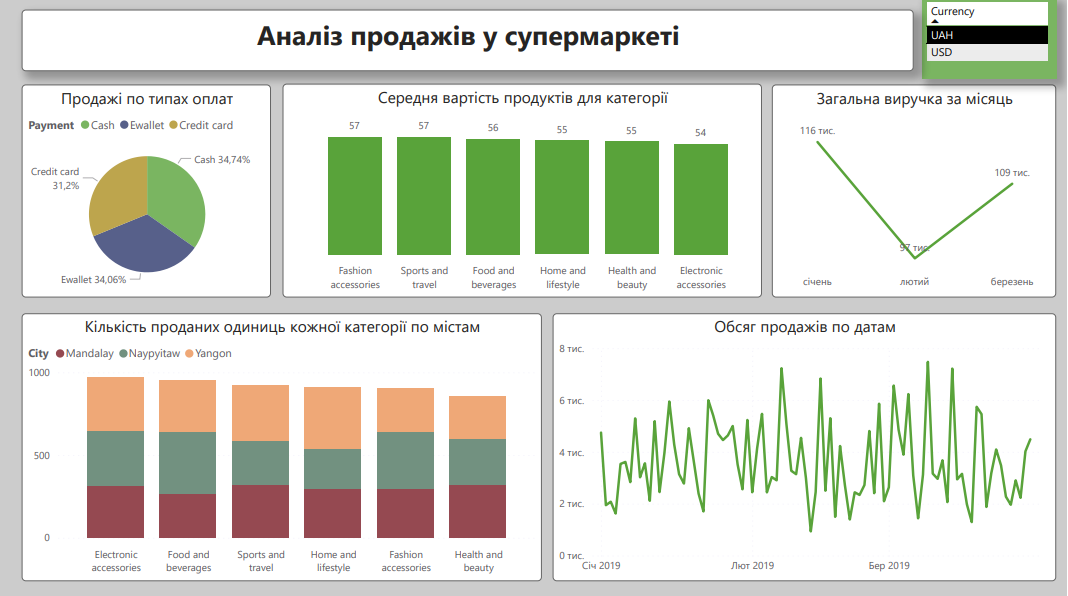

What the dashboard file says about the page in this screenshot:
{"tool":"powerbi","page":{"name":"УКР","canvas":[1280,720],"ordinal":0},"visuals":[{"type":"lineChart","title":"Загальна виручка за місяць ","fields":{"Category":["supermarket_sales csv.Date.Варіація.Ієрархія дат.Місяць"],"Y":["supermarket_sales.Total by currency"]},"box":[926.2,104.3,340.3,255.2],"z":0},{"type":"clusteredColumnChart","title":"Середня вартість продуктів для категорії","fields":{"Category":["supermarket_sales csv.Product line"],"Y":["supermarket_sales.Average Price"]},"box":[338.9,102.9,575,256.6],"z":1000},{"type":"lineChart","title":"Обсяг продажів по датам","fields":{"Category":["supermarket_sales csv.Date.Варіація.Ієрархія дат.Рік","supermarket_sales csv.Date.Варіація.Ієрархія дат.Місяць","supermarket_sales csv.Date.Варіація.Ієрархія дат.День"],"Y":["supermarket_sales.Total by currency"]},"box":[662.8,378.7,603.8,322.5],"z":2000},{"type":"columnChart","title":"Кількість проданих одиниць кожної категорії по містам","fields":{"Category":["supermarket_sales csv.Product line"],"Y":["Sum(supermarket_sales.Quantity)"],"Series":["supermarket_sales.City"]},"box":[26.1,378.7,624.4,322.5],"z":3000},{"type":"pieChart","title":"Продажі по типах оплат","fields":{"Category":["supermarket_sales csv.Payment"],"Y":["supermarket_sales.Total by currency"]},"box":[26.1,104.3,299.1,255.2],"z":4000},{"type":"tableEx","fields":{"Values":["Currency.Currency"]},"box":[1106,0,160.5,97.4],"z":5000},{"type":"textbox","box":[26.1,13.7,1070.3,74.1],"z":6000}]}

Visuals, with their boxes in screenshot pixels (x1, y1, x2, y2), scaled from the page's 1280x720 canvas onto the 1068x596 screenshot:
"Загальна виручка за місяць " lineChart: left=773, top=86, right=1057, bottom=298
"Середня вартість продуктів для категорії" clusteredColumnChart: left=283, top=85, right=763, bottom=298
"Обсяг продажів по датам" lineChart: left=553, top=313, right=1057, bottom=580
"Кількість проданих одиниць кожної категорії по містам" columnChart: left=22, top=313, right=543, bottom=580
"Продажі по типах оплат" pieChart: left=22, top=86, right=271, bottom=298
tableEx - Currency.Currency: left=923, top=0, right=1057, bottom=81
textbox: left=22, top=11, right=915, bottom=73
